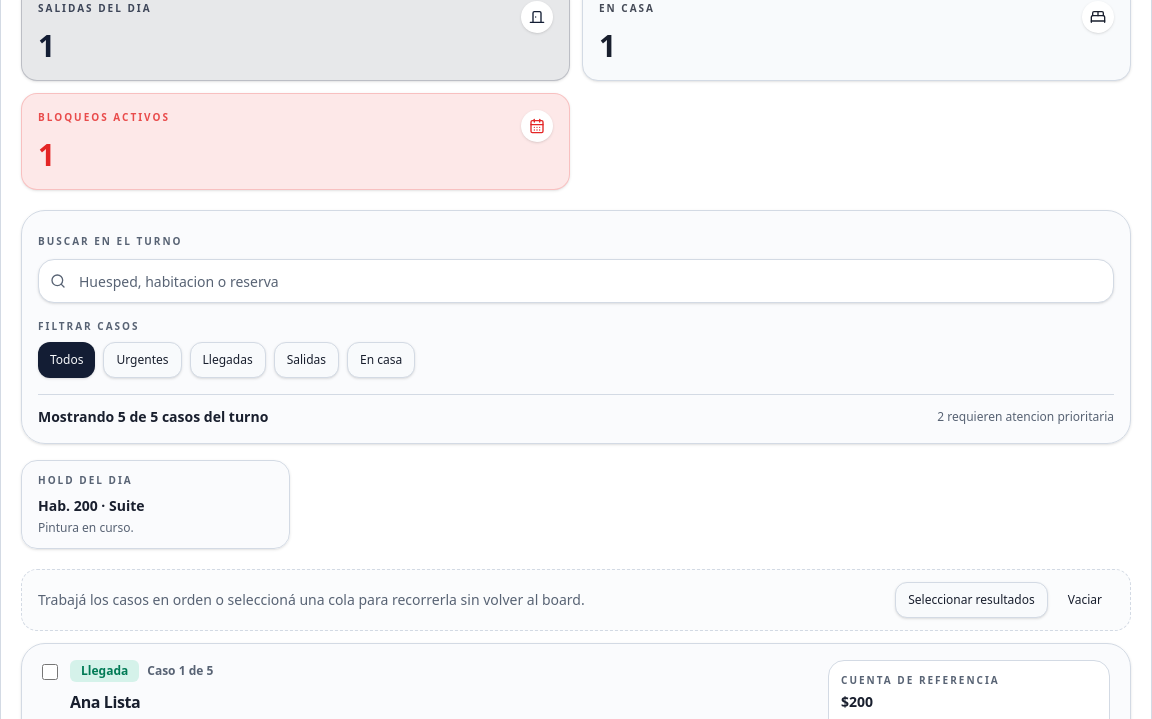
it: FrontDeskBoardPanel › filters by lane and search normalizing accents
This screenshot has width=1152, height=719.
(page scrolled)
Click the button "En casa": [381, 360] box [347,342,415,378]
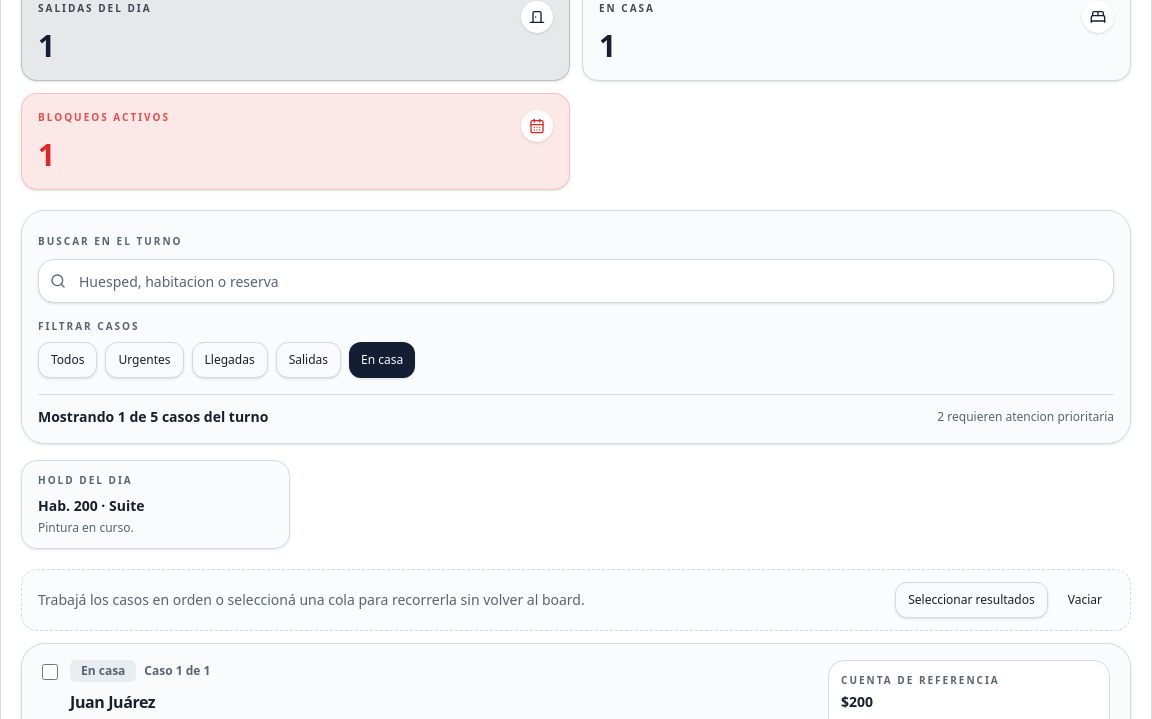
Check: the heading "Juan Juárez" is shown, box [70,691,155,713]
Check: the text "Mostrando 1 de 5 casos del turno" is shown, box [38,407,268,427]
Check: the heading "Ana Lista" is gone
Click the button "Urgentes": [144, 360] box [106,342,184,378]
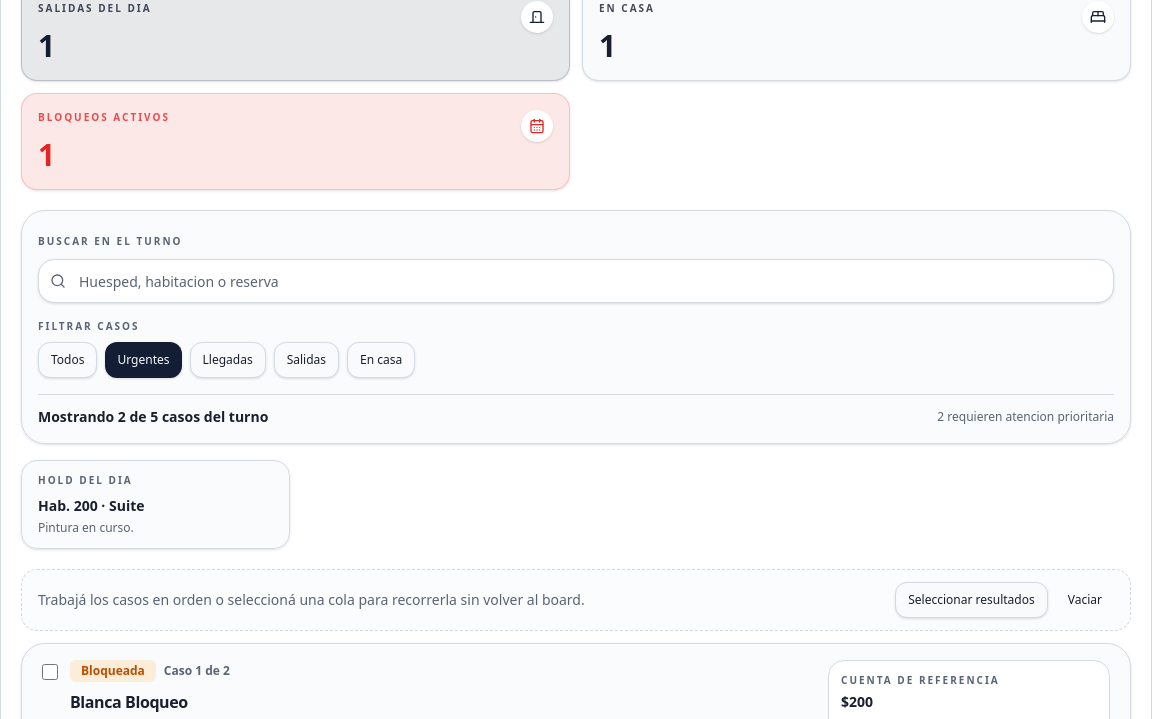
Check: the heading "Blanca Bloqueo" is shown, box [70,691,188,713]
In the search field labelled "Buscar en el turno": [576, 281] box [38,259,1114,303], type "juarez"
(page scrolled)
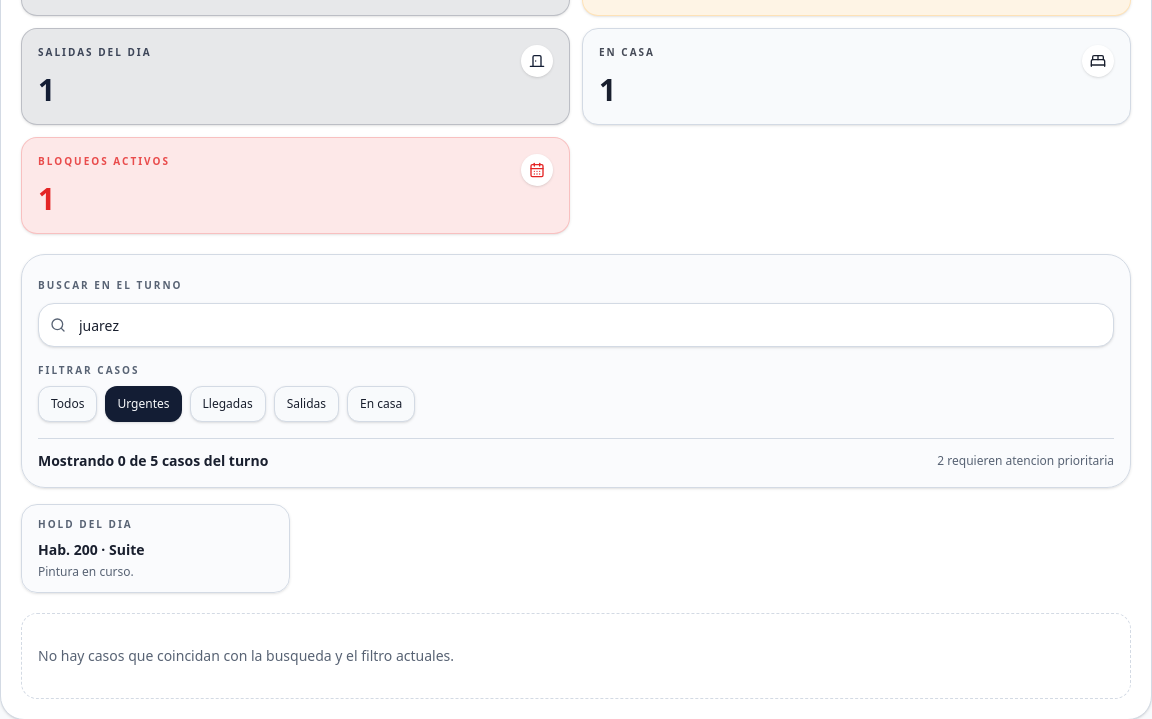
Click the button "Todos": [68, 404] box [38,386,98,422]
(page scrolled)
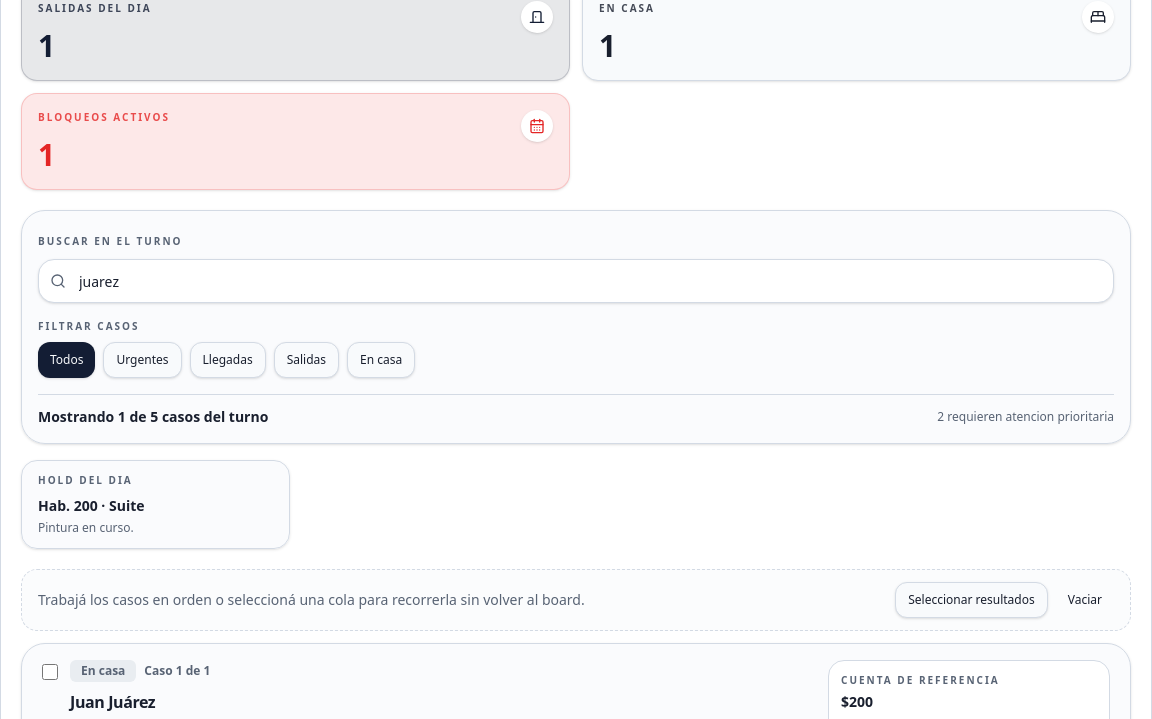
Check: the heading "Ana Lista" is not shown
Check: the heading "Juan Juárez" is shown, box [70,691,155,713]
